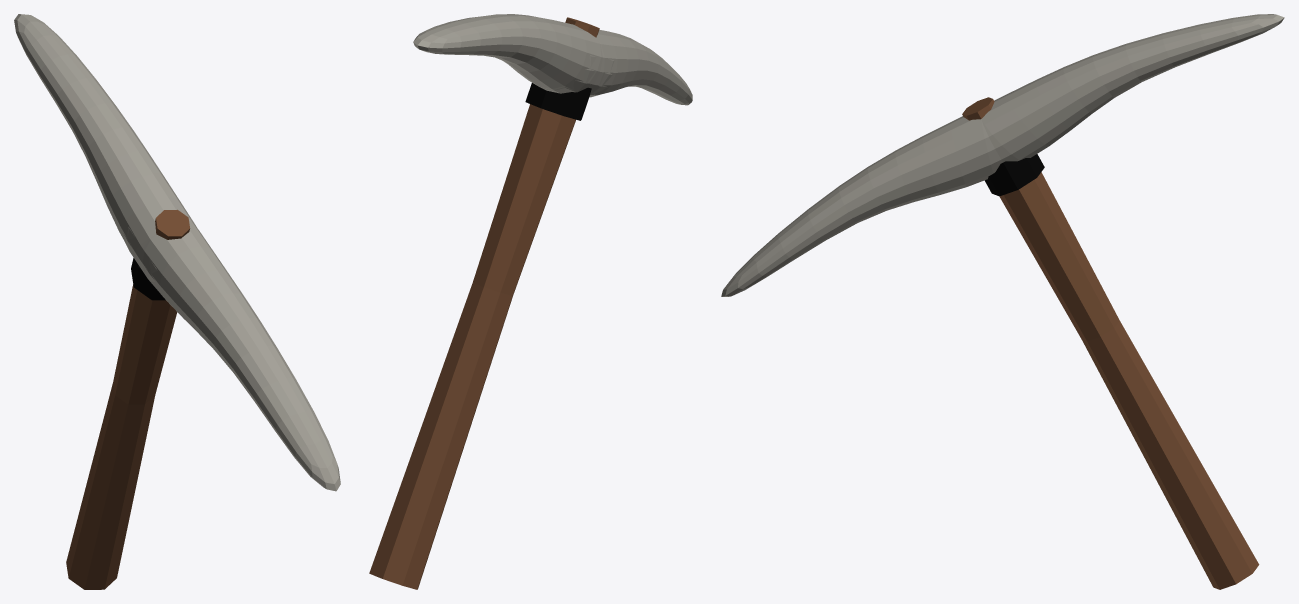
Rendered from PickaxeMain.fbx.
3 views of the same model, side by side, from view 1: azimuth 30°, elevation 25°; view 2: azimuth 150°, elevation 25°; view 3: azimuth 270°, elevation 25° (orthographic). The views are drawn at different scales.
Visible parts, largest first — view 1: Cylinder; view 2: Cylinder; view 3: Cylinder.
Boxes of the visible parts, x1,y1,x2,y2 form: Cylinder: (14,14,340,589); Cylinder: (369,14,692,589); Cylinder: (721,14,1284,589).
Size of the model in its own units: 129 by 689 by 641.
